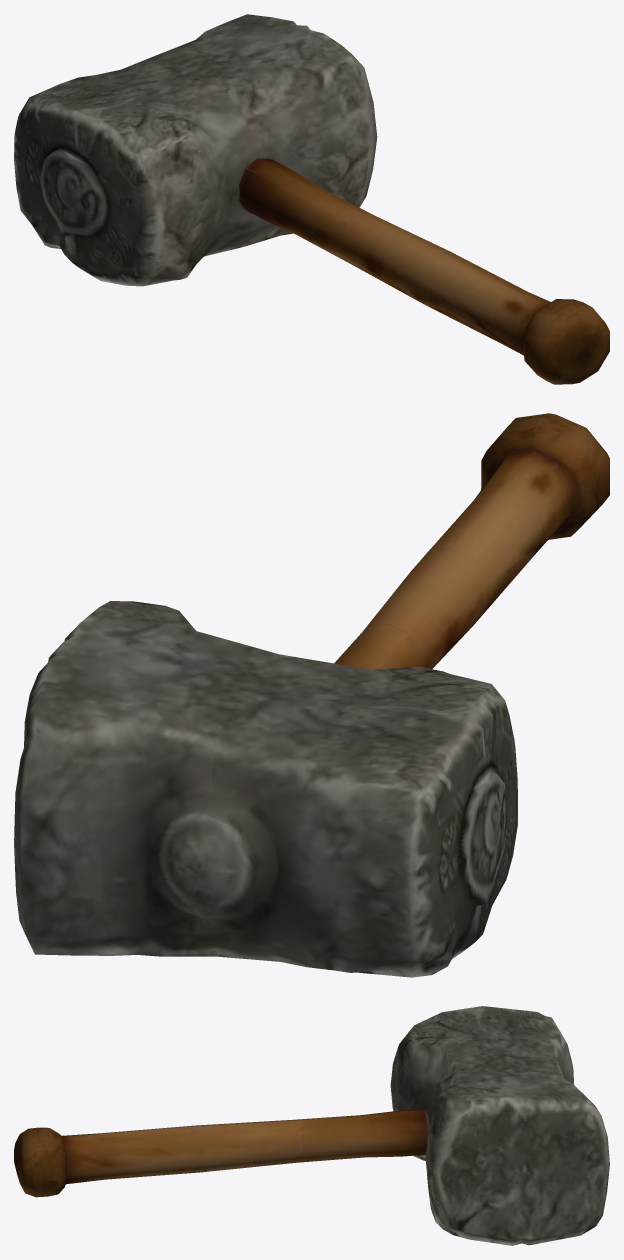
Rendered from maul.fbx.
3 views of the same model, one above another, from view 1: azimuth 30°, elevation 25°; view 2: azimuth 150°, elevation 25°; view 3: azimuth 270°, elevation 25° (orthographic). The views are drawn at different scales.
Visible parts, largest first — view 1: tripo_node_4ce12cba-55ad-43c1-95ef-405505cdf53c; view 2: tripo_node_4ce12cba-55ad-43c1-95ef-405505cdf53c; view 3: tripo_node_4ce12cba-55ad-43c1-95ef-405505cdf53c.
Boxes of the visible parts, box(x1,y1,x2,y2) form: tripo_node_4ce12cba-55ad-43c1-95ef-405505cdf53c: box(14, 14, 609, 384); tripo_node_4ce12cba-55ad-43c1-95ef-405505cdf53c: box(14, 413, 609, 977); tripo_node_4ce12cba-55ad-43c1-95ef-405505cdf53c: box(14, 1006, 609, 1245).
Size of the model in its own units: 0.6913 by 0.4093 by 1.5.
Materials: 1 (1 with a texture image).
